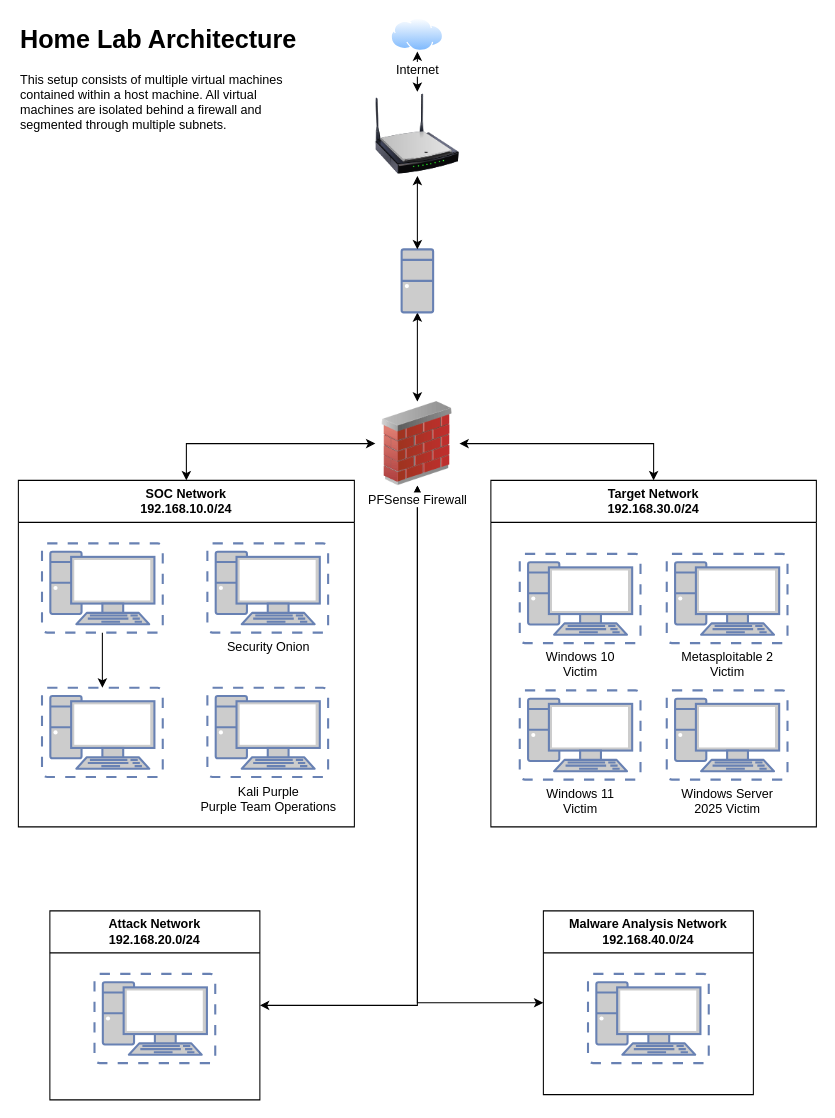
Some shapes in this 835 by 1118 pixel diagram are drawn without their labels. Each missing label, with the centre of its shape:
Host Machine: the point at 417,280
Kali Linux Attacker: the point at 154,1018
Oracle Linux Splunk / Caldera: the point at 101,587
Remnux: the point at 647,1018
Router: the point at 417,133
Ubuntu Linux Splunk Deployment Server: the point at 101,732
